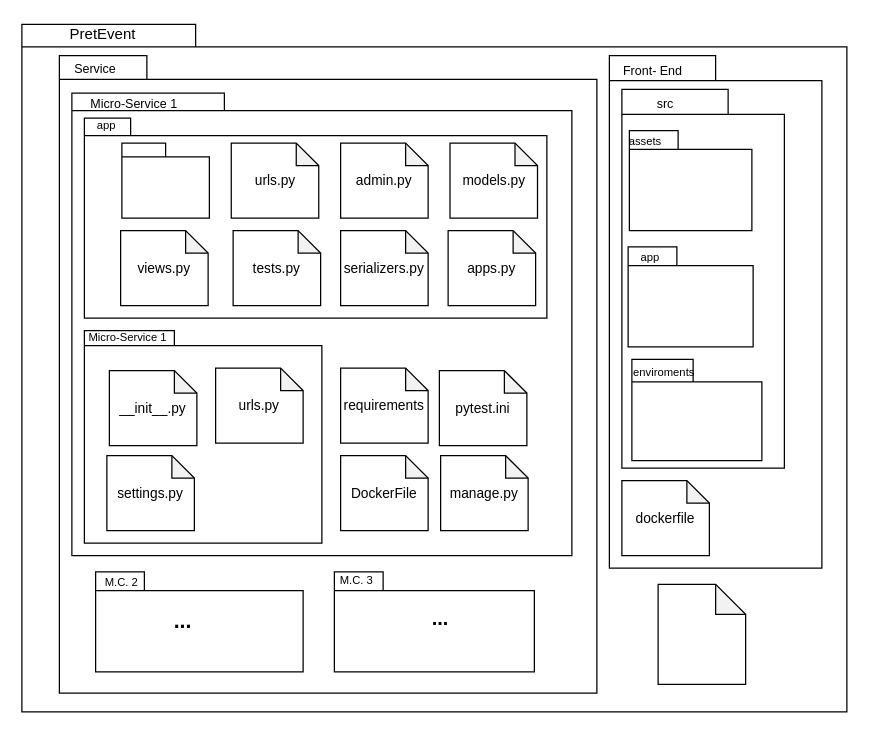
Some shapes in this 869 by 734 pixel diagram are drawn without their labels. Each missing label, with the box of its shape:
docker-compose.yml: (657, 583, 746, 684)
migrations: (121, 142, 209, 218)
